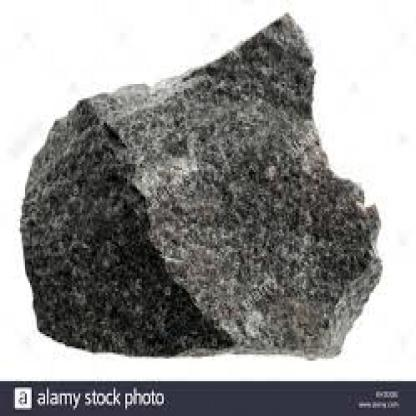Igneous_Diorite: (13, 8, 388, 363)
